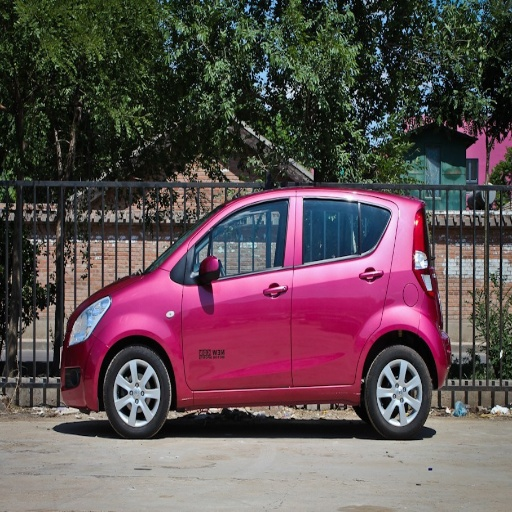back_left_door: (292, 193, 390, 384)
front_left_door: (182, 194, 296, 392)
